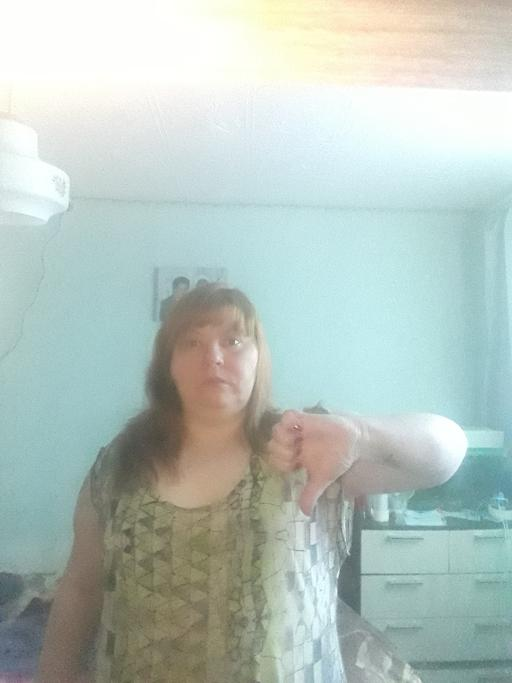dislike: (265, 406, 361, 518)
